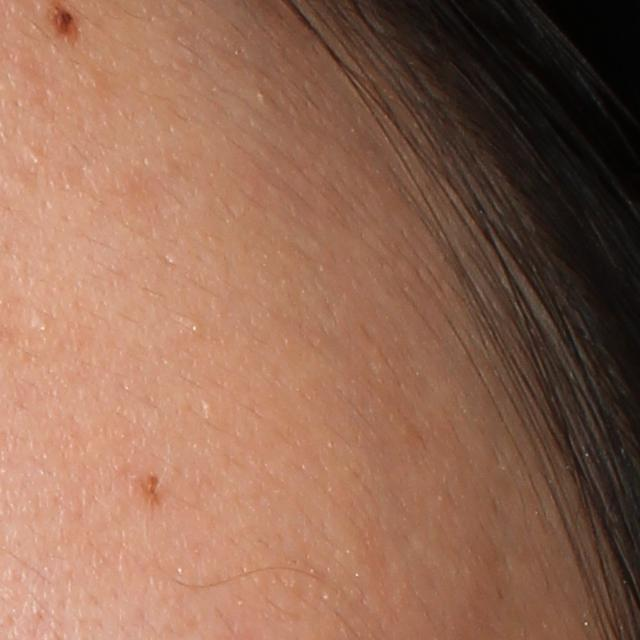nevus: (53, 3, 76, 41), (139, 472, 163, 503)
